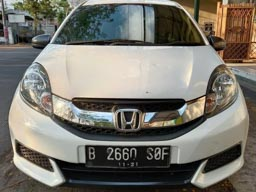plat: (84, 144, 171, 159)
